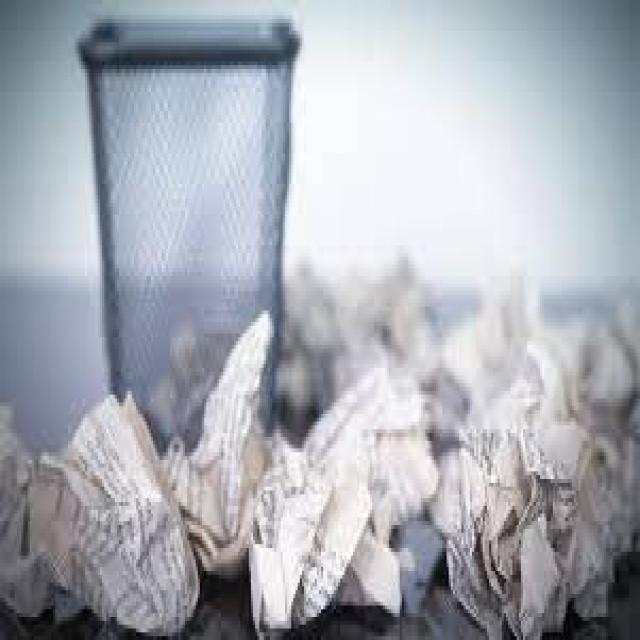Paper -Biodegradable-: (159, 313, 399, 640), (426, 315, 640, 640), (29, 399, 199, 632), (305, 373, 435, 541), (0, 407, 78, 619)
